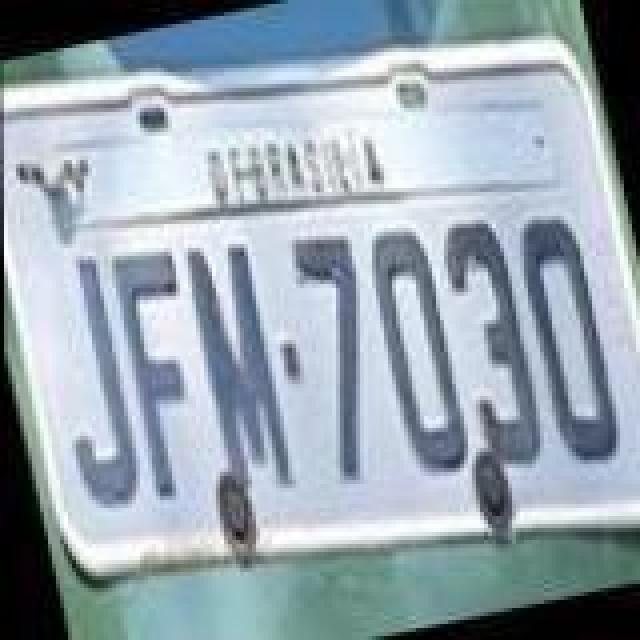3: (432, 214, 552, 474)
7: (282, 224, 398, 480)
F: (102, 242, 226, 502)
J: (32, 252, 152, 516)
M: (176, 232, 296, 488)
O: (508, 206, 628, 474), (356, 220, 476, 484)
